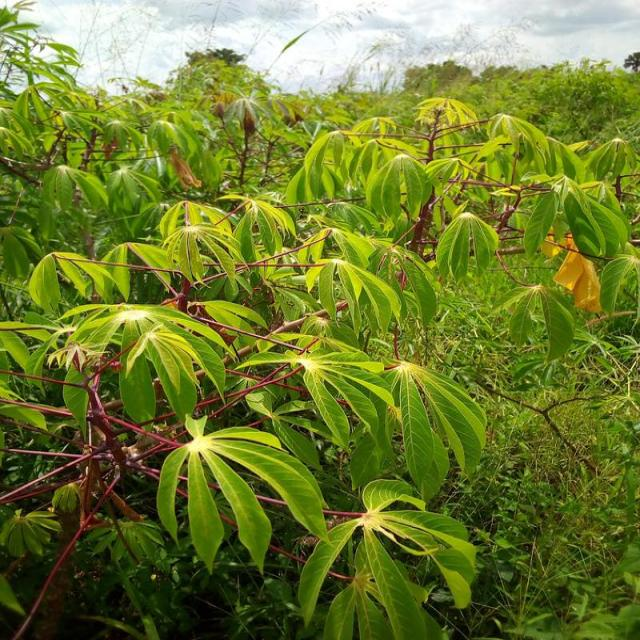cassava leaf: (2, 90, 636, 636), (155, 412, 329, 576)
